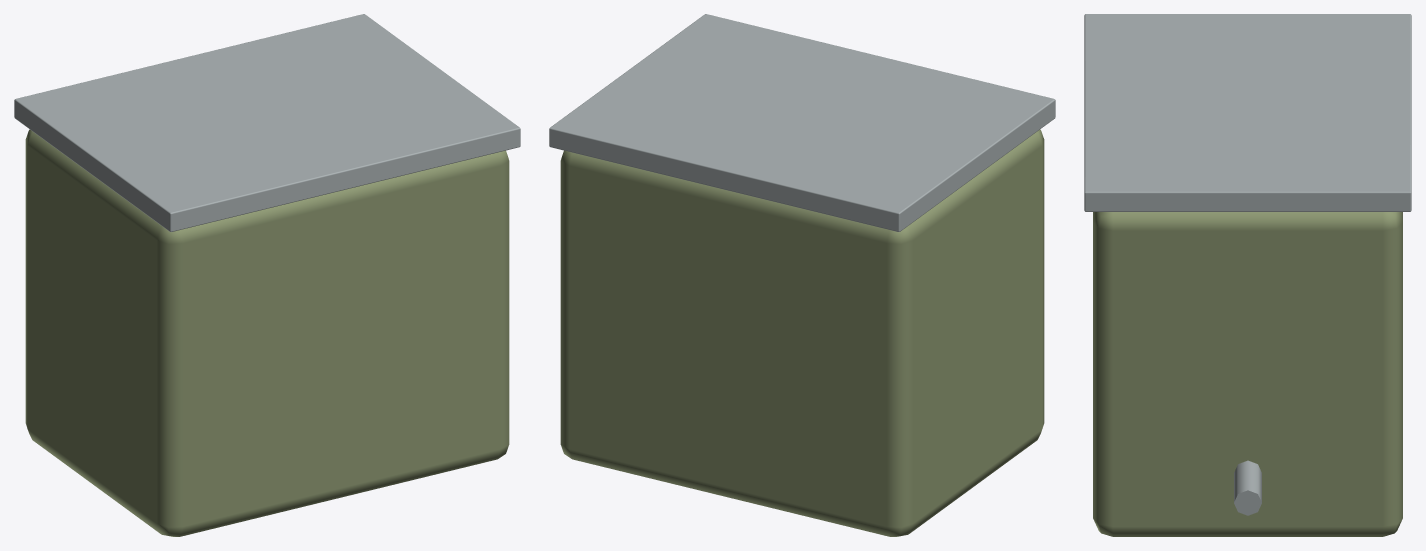
The model's file is water-collection-and-purification-settling-tank-9bc2e361__20197.glb.
The picture shows the model from 3 angles, left to right: view 1: azimuth 30°, elevation 25°; view 2: azimuth 150°, elevation 25°; view 3: azimuth 270°, elevation 25°; orthographic projection. The views are drawn at different scales.
Parts seen in each view (by area): view 1: settling-tank; view 2: settling-tank; view 3: settling-tank.
Boxes of the visible parts, x1,y1,x2,y2 form: settling-tank: (14,14,520,536); settling-tank: (549,14,1055,536); settling-tank: (1084,14,1411,536).
Size of the model in its own units: 0.875 by 0.69 by 0.58.
